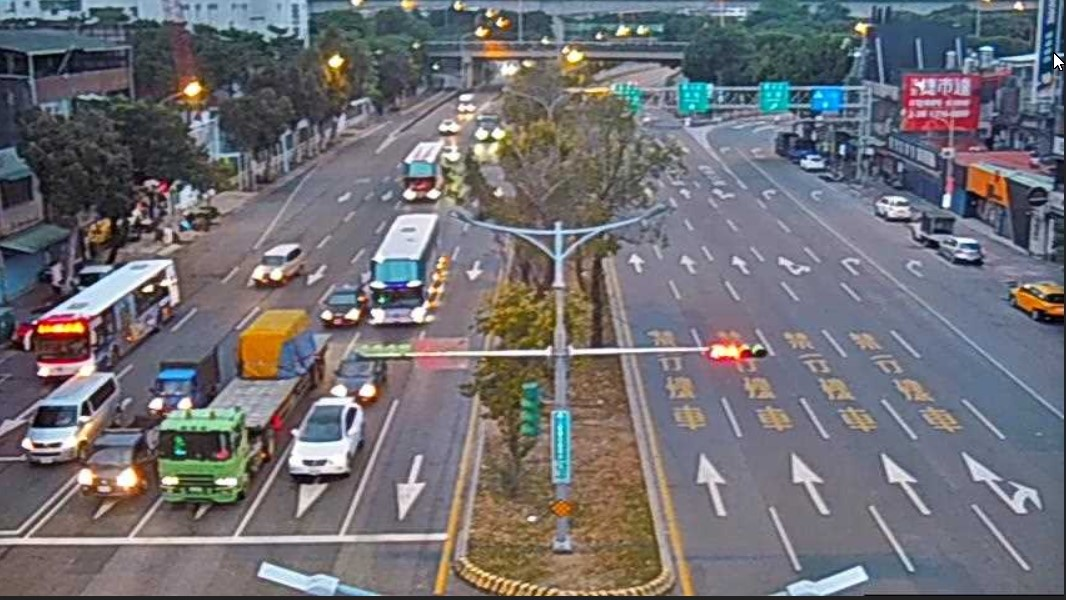Bus: (22, 263, 182, 380), (364, 214, 452, 325), (398, 139, 453, 201)
Business Passenger Car: (1005, 264, 1066, 320)
Private Passenger Car: (21, 364, 113, 466), (285, 394, 361, 486), (78, 414, 159, 497), (331, 344, 393, 404), (315, 272, 367, 332), (249, 238, 299, 282), (933, 232, 987, 268), (875, 188, 915, 226), (800, 150, 825, 175)
